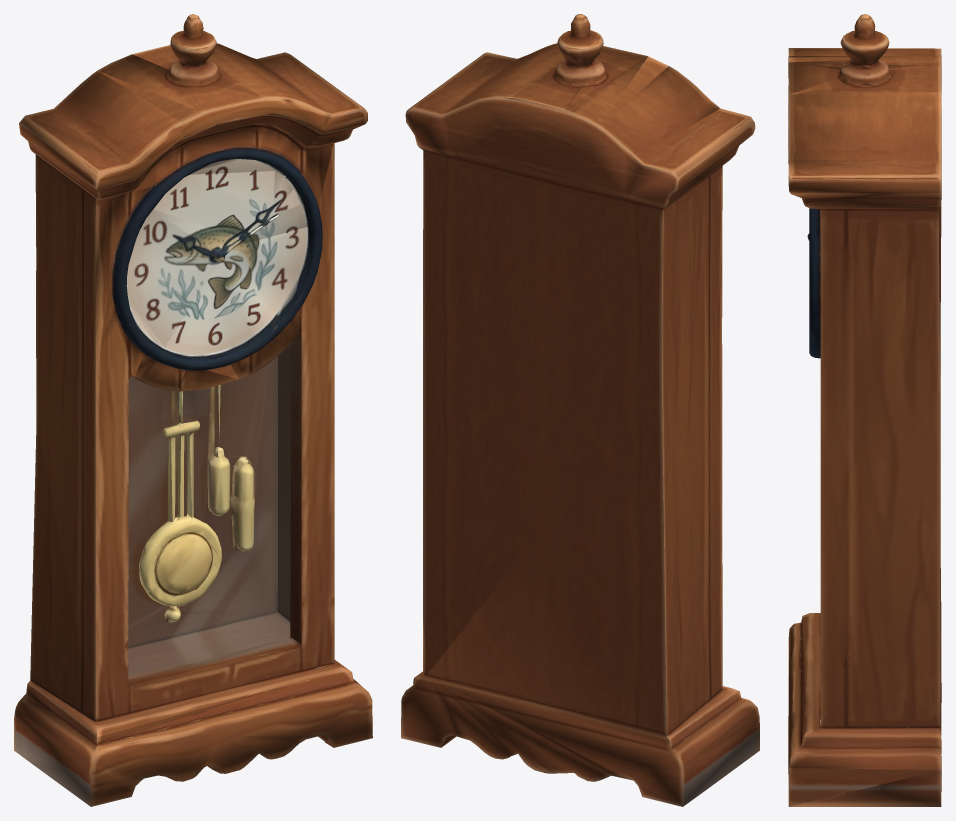
The model's file is Decor_Clock.fbx.
The picture shows the model from 3 angles, left to right: view 1: azimuth 30°, elevation 25°; view 2: azimuth 150°, elevation 25°; view 3: azimuth 270°, elevation 25°; orthographic projection.
Parts seen in each view (by area): view 1: Mesh_0; view 2: Mesh_0; view 3: Mesh_0.
Boxes of the visible parts, x1,y1,x2,y2 form: Mesh_0: [14, 14, 372, 806]; Mesh_0: [401, 14, 759, 806]; Mesh_0: [788, 14, 941, 806].
Bounding box in the file's own units: 76.85 × 190 × 36.51.
Materials: 1 (1 with a texture image).
